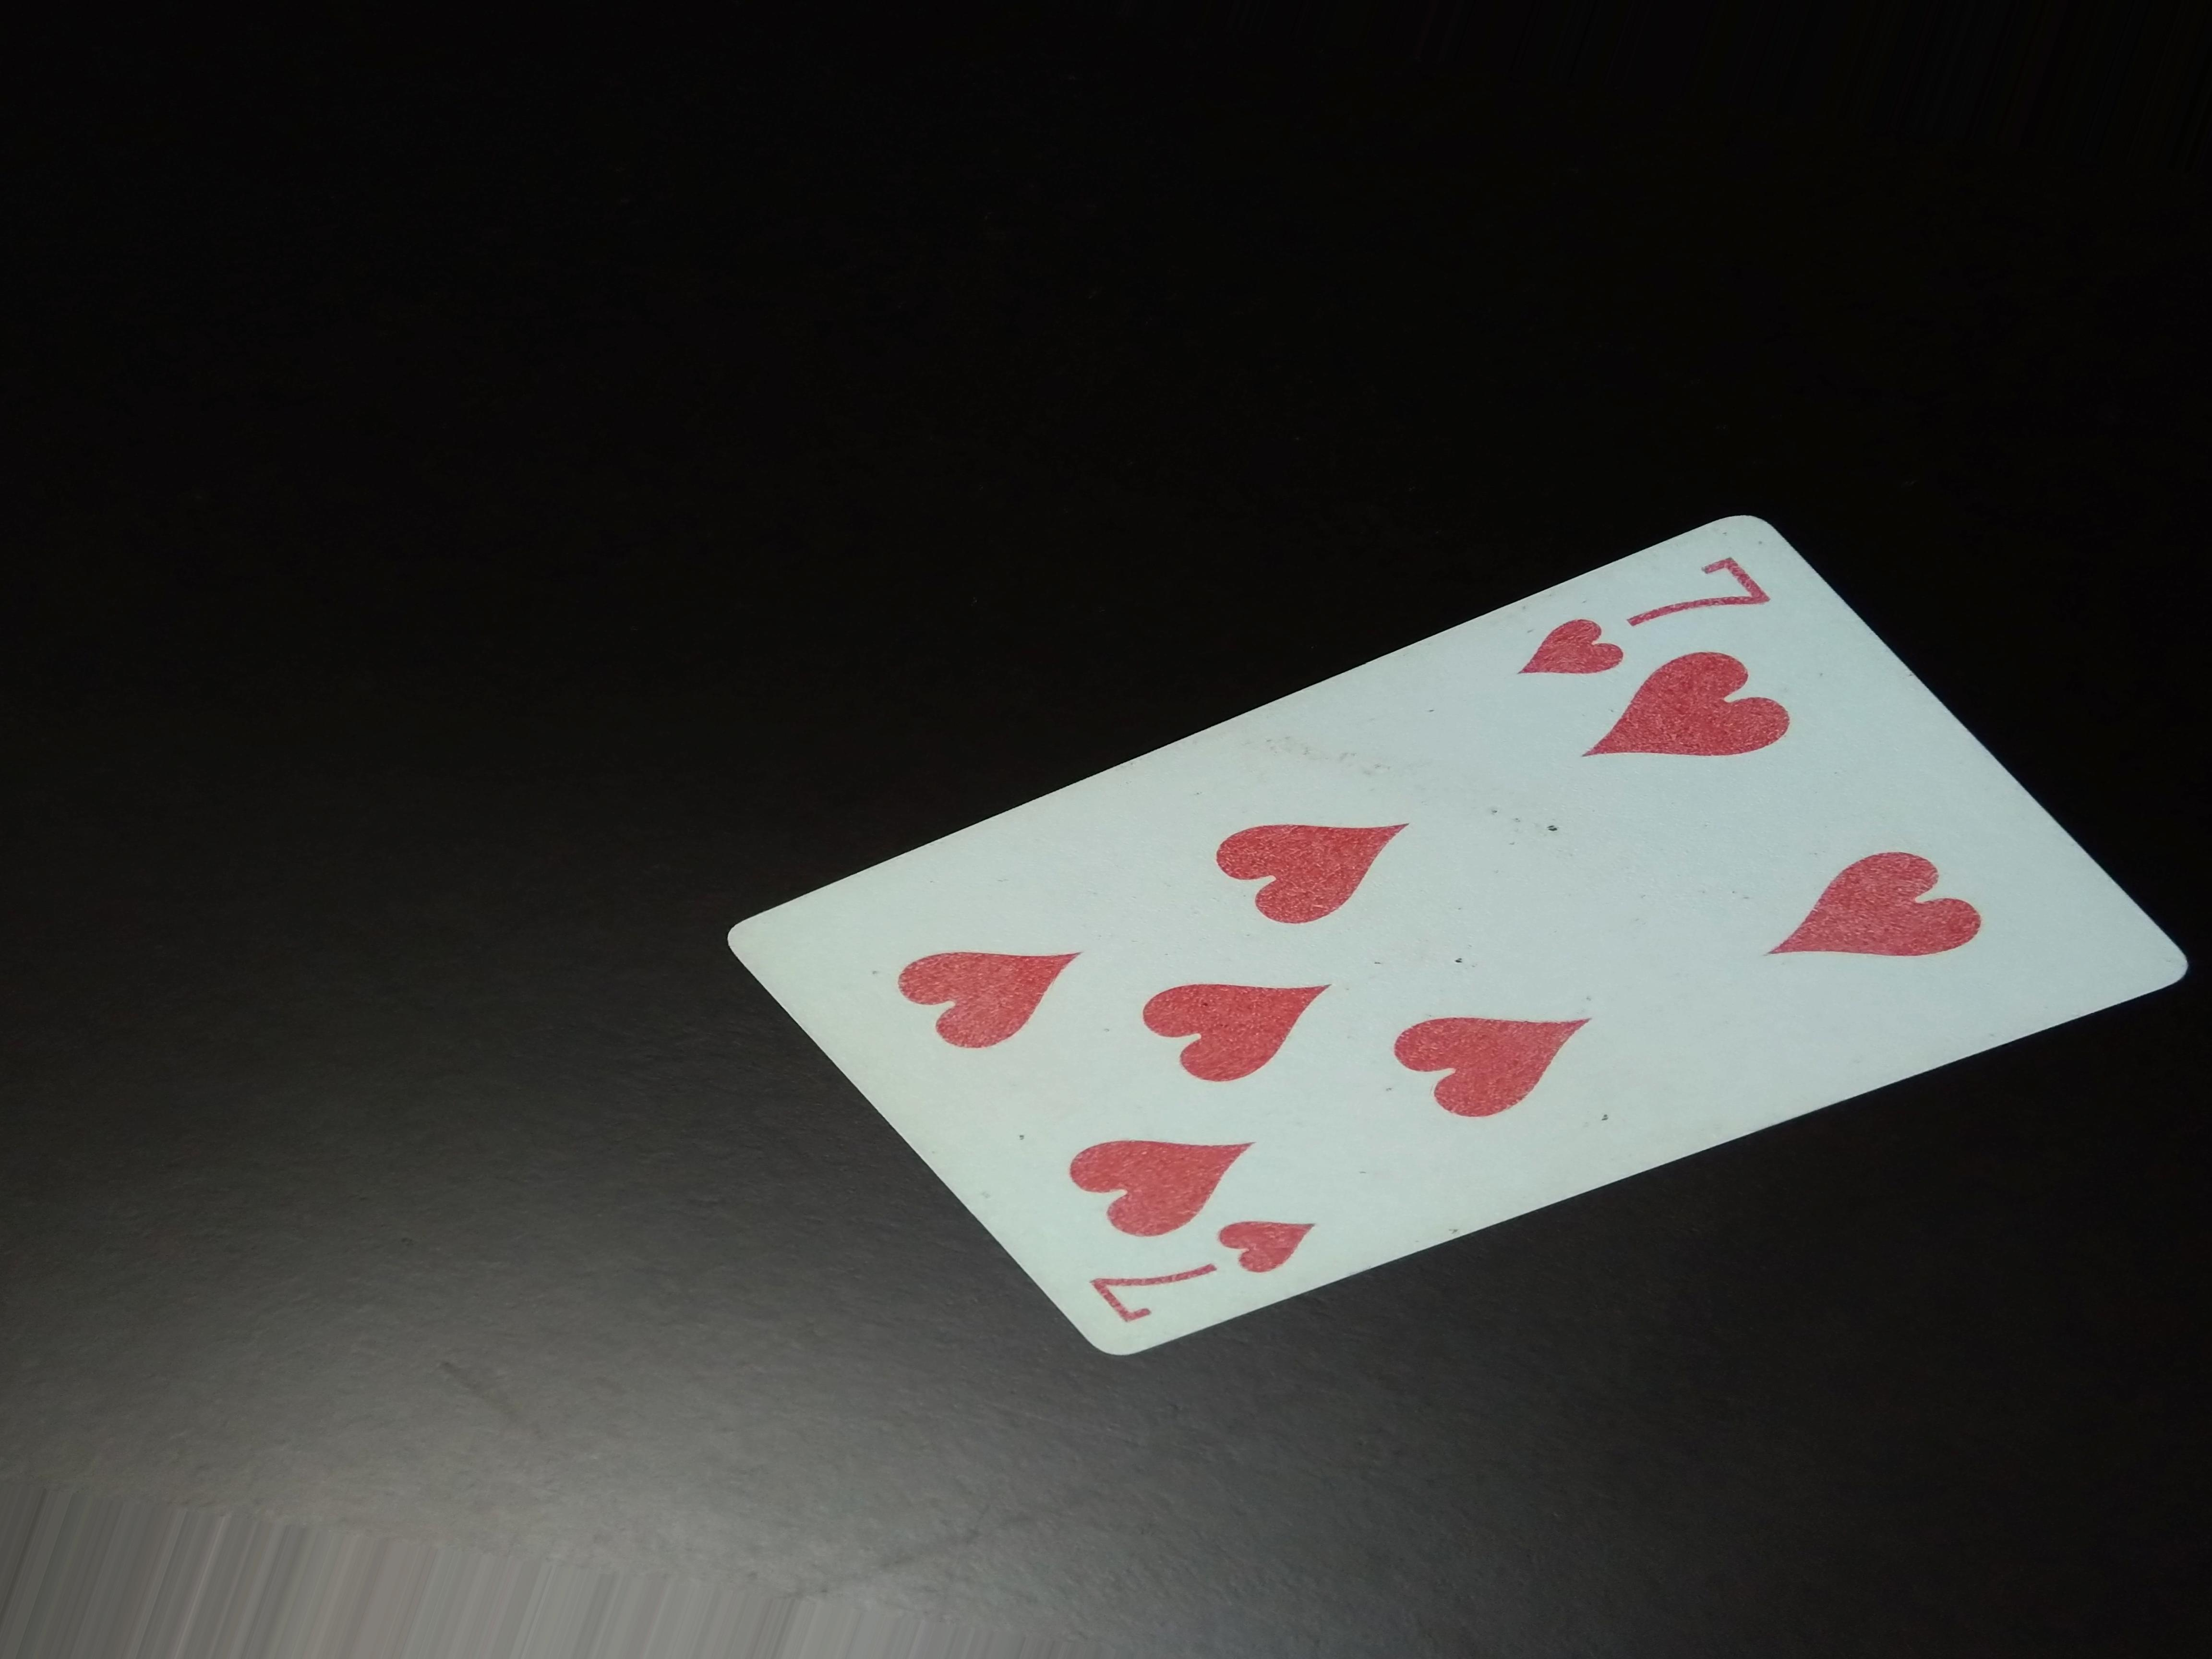7H: (1510, 545, 1768, 681)
